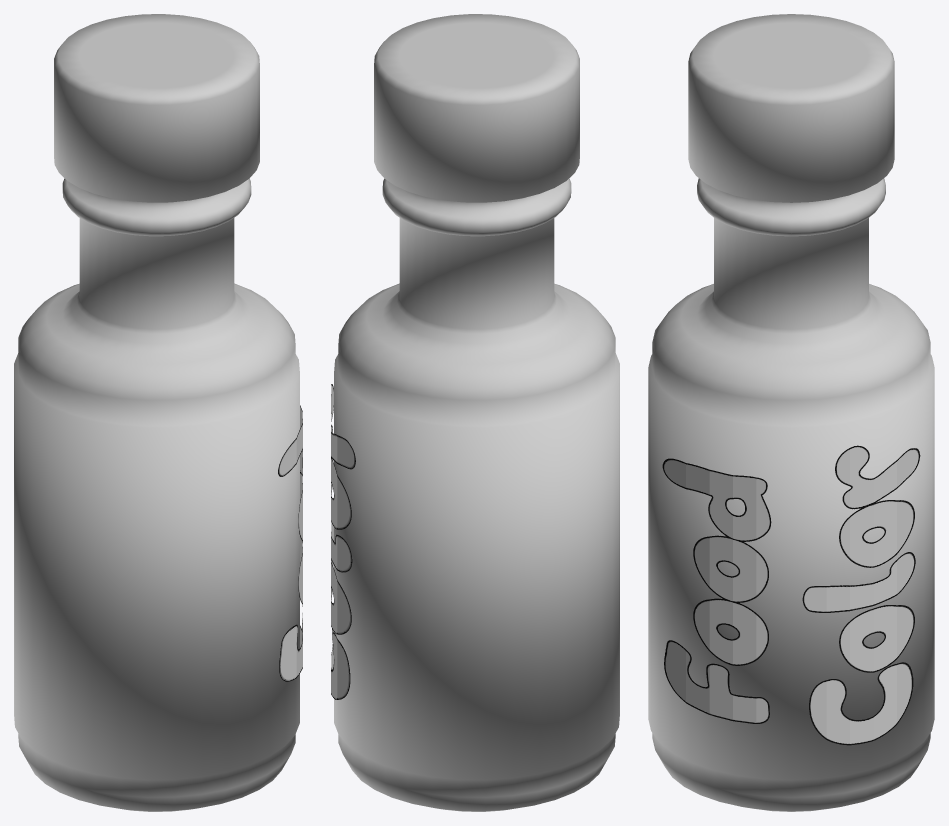
File: food_coloring.fbx
3 renders of one model, left to right at view 1: azimuth 30°, elevation 25°; view 2: azimuth 150°, elevation 25°; view 3: azimuth 270°, elevation 25°, orthographic.
Visible parts, largest first — view 1: FoodColor; view 2: FoodColor; view 3: FoodColor.
Part boxes in pixels (<box>): FoodColor: <box>14,14,302,811</box>; FoodColor: <box>331,14,619,811</box>; FoodColor: <box>648,14,934,811</box>.
Bounding box in the file's own units: 3.42 × 9.31 × 3.38.
